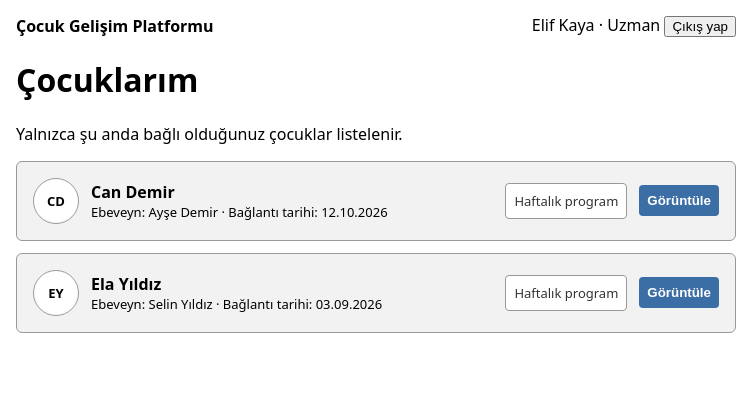
Test: SpecialistChildrenPage › keeps the child and says the tasks failed for any other error
Click the button "Görüntüle" in the row of "12.10.2026": (679, 201) [639,185,719,216]
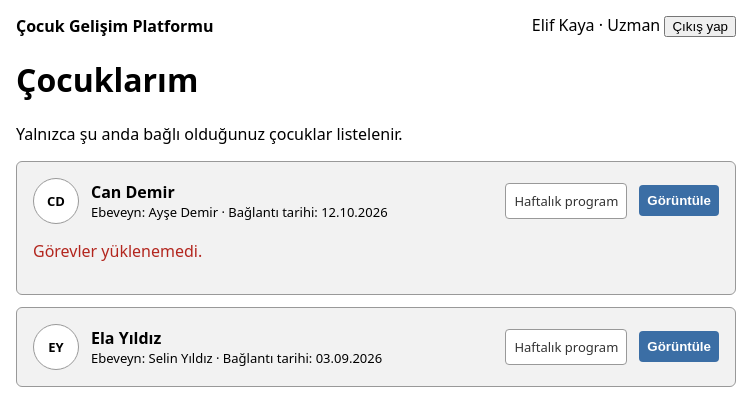
Expected: the text "Can Demir" is shown, [91,181,175,203]
Result: the message reads "Görevler yüklenemedi." at [33,240,202,262]
